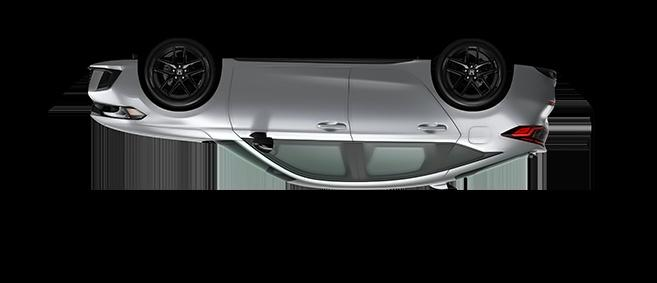Car hood: (88, 113, 216, 146)
Driver-s door - -F-R-: (229, 63, 351, 186)
Fender - -F-R-: (144, 55, 234, 146)
Fender - -R-R-: (424, 59, 519, 153)
Front bumper: (84, 53, 156, 110)
Headlight - -R-: (88, 99, 148, 123)
Passenger-s door - -R-R-: (351, 64, 461, 187)
Rear bumper: (499, 56, 562, 122)
Rear light - -R-: (498, 124, 551, 154)
Side bumper - -R-: (217, 50, 436, 70)
Side mirror - -R-: (246, 128, 278, 161)
